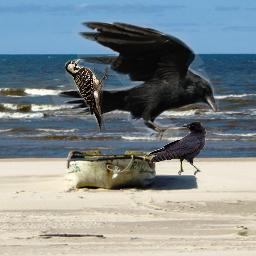Crow: (52, 19, 219, 140), (144, 121, 207, 175)
Woodpecker: (65, 59, 108, 132)
